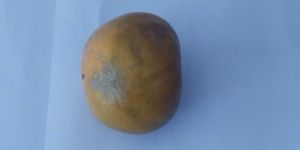BAD: (81, 11, 185, 135)
